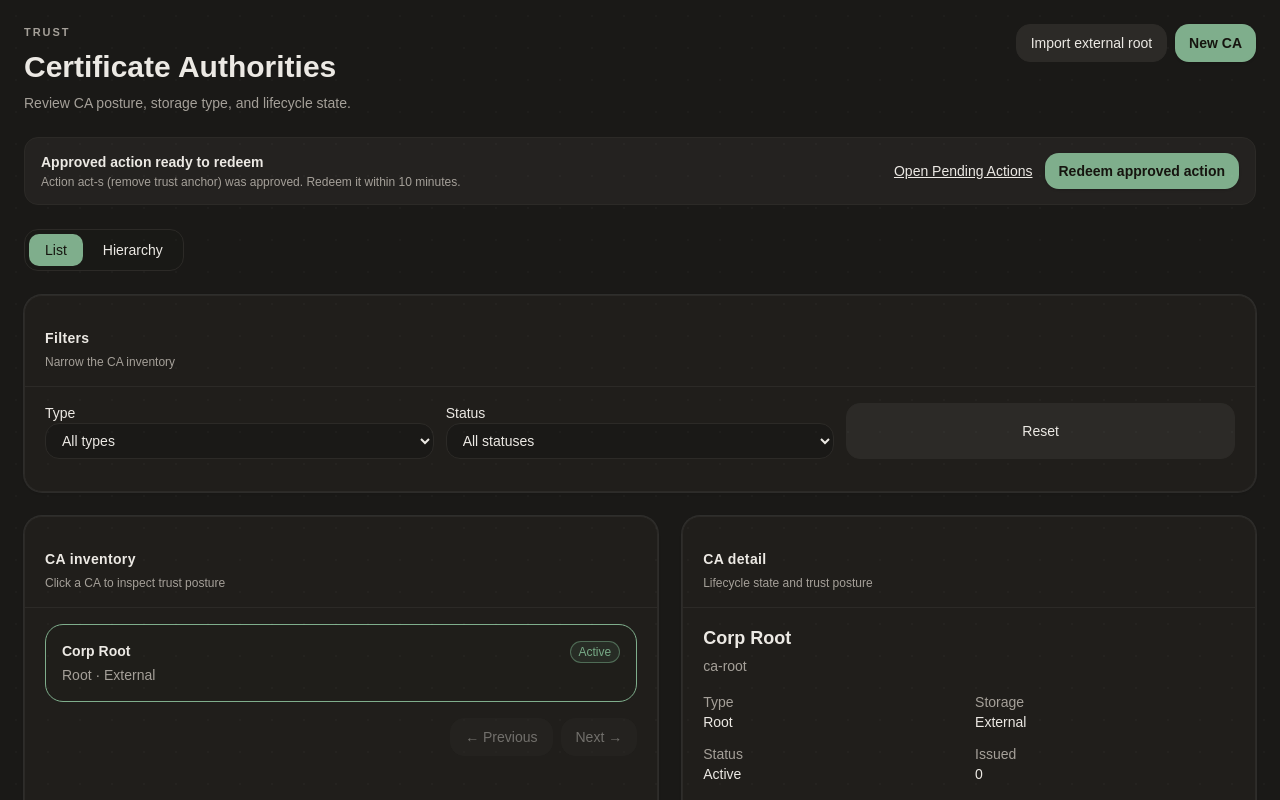
Test case: CA grants survive a reload (CB-08) › derives the redeem prompt for a trust-anchor removal from server state and redeems it
Expected: the text "Approved action ready to redeem" is shown, [41,154,264,170]
Click the button "Redeem approved action" at [1142, 170], box [1044,152,1239,188]
(page scrolled)
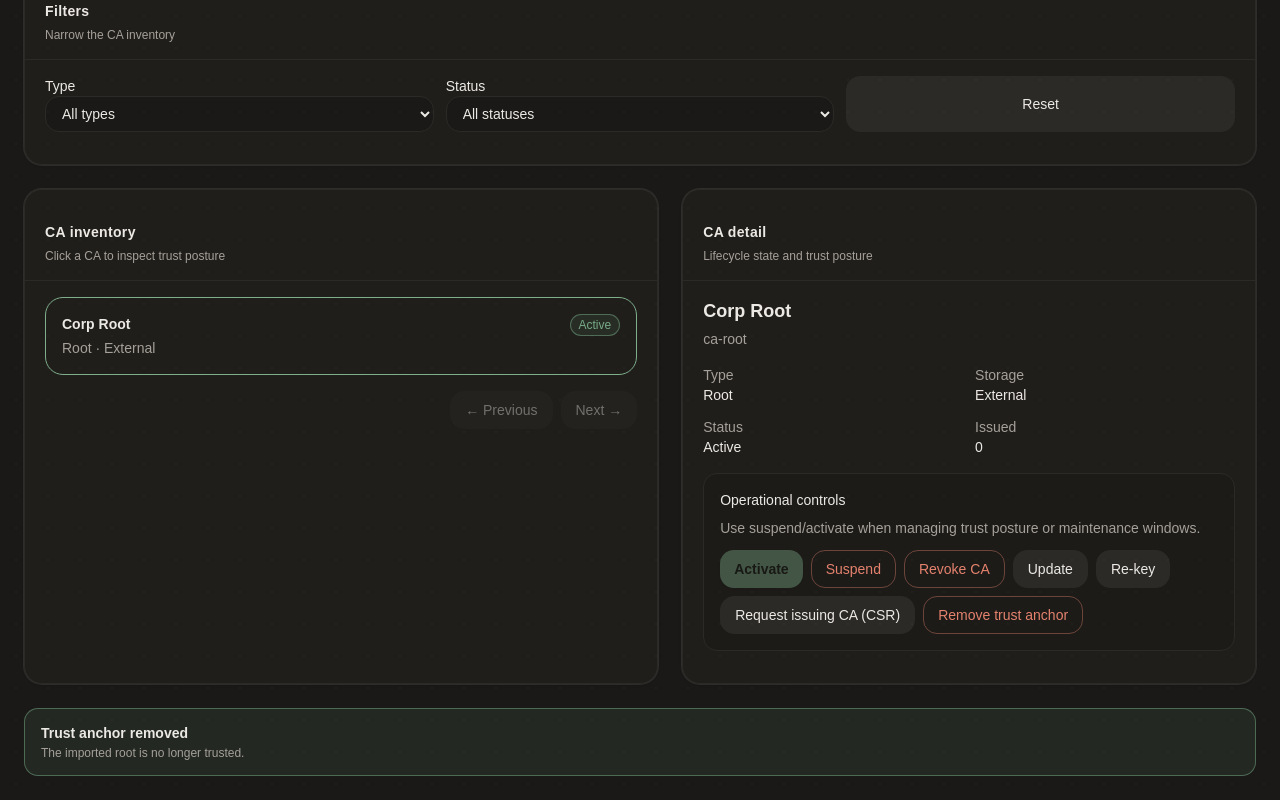
Result: the text "Trust anchor removed" is shown at [41,724,188,740]
Result: the text "Approved action ready to redeem" is gone
